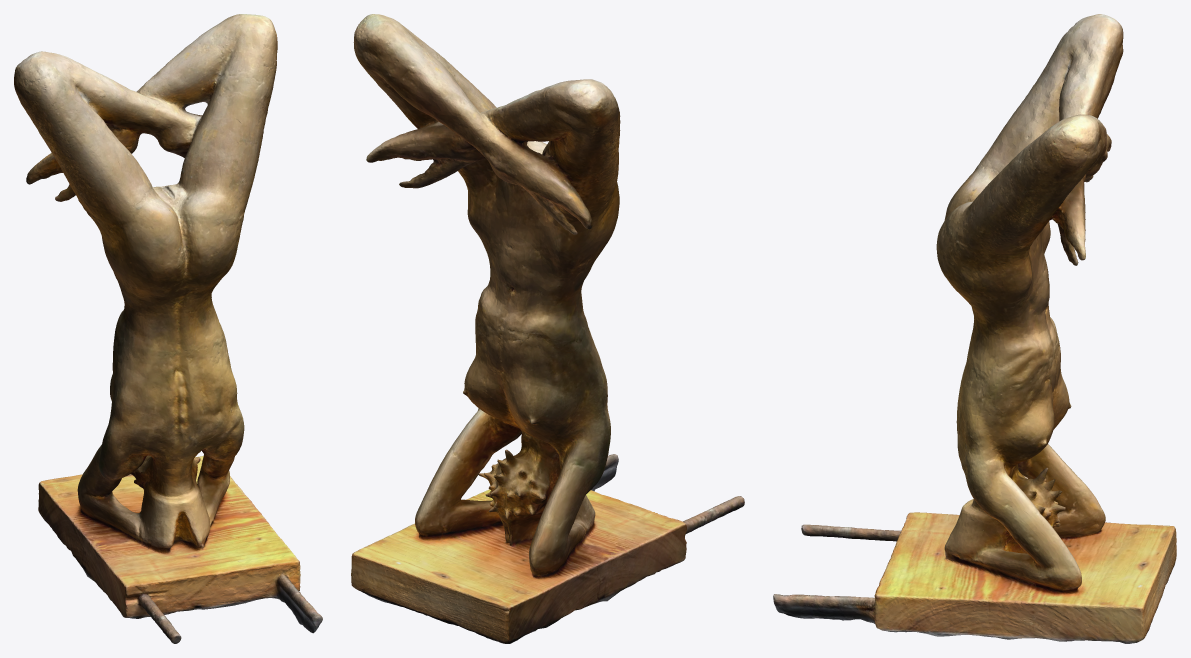
Rendered from paro-de-cabeza-en-loto.glb.
3 renders of one model, left to right at view 1: azimuth 30°, elevation 25°; view 2: azimuth 150°, elevation 25°; view 3: azimuth 270°, elevation 25°, orthographic. The views are drawn at different scales.
Bounding box in the file's own units: 0.7059 × 1.4 × 0.9489.
1 material, 1 textured.
